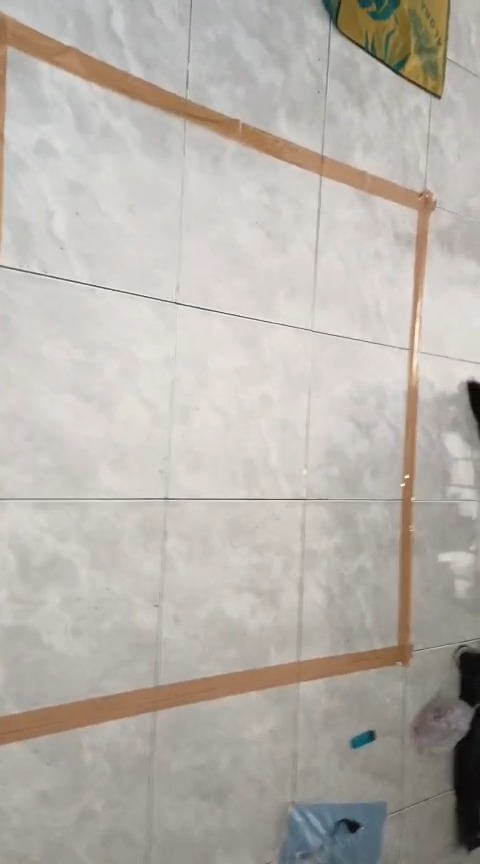floor marking: (0, 14, 435, 743)
